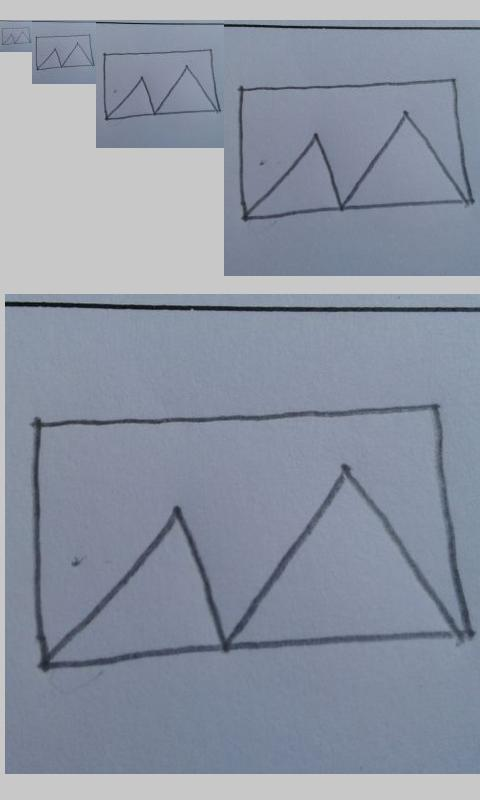image_view: (29, 405, 469, 673), (236, 79, 475, 221), (101, 48, 221, 121), (35, 34, 95, 71), (1, 27, 31, 46)
